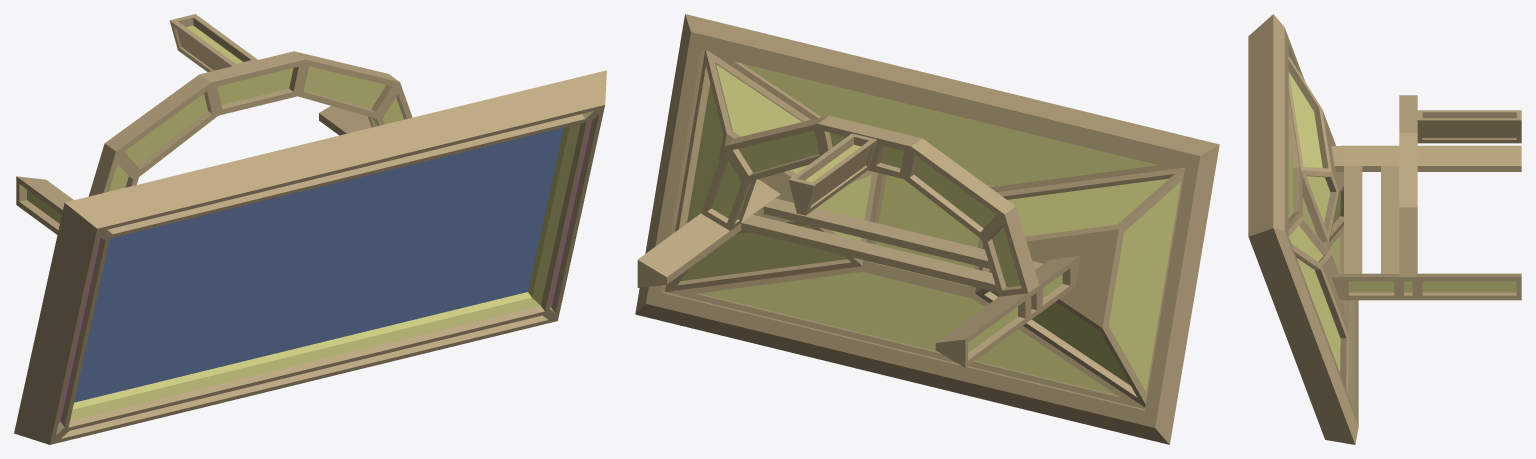
The model's file is ShipScreen.fbx.
3 views of the same model, side by side, from view 1: azimuth 30°, elevation 25°; view 2: azimuth 150°, elevation 25°; view 3: azimuth 270°, elevation 25° (orthographic). The views are drawn at different scales.
Visible parts, largest first — view 1: ShipScreen; view 2: ShipScreen; view 3: ShipScreen.
Part boxes in pixels (x1,y1,x2,y2): ShipScreen: (14,14,606,444); ShipScreen: (635,14,1219,444); ShipScreen: (1248,14,1521,444).
Size of the model in its own units: 42.75 by 20.96 by 23.03.
